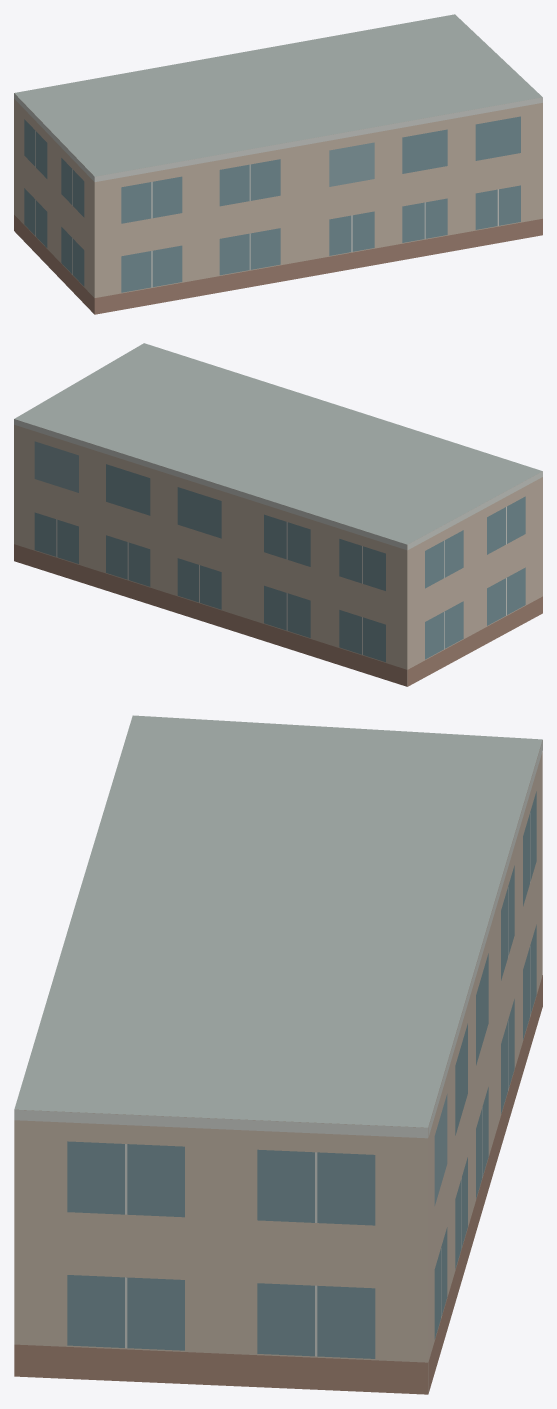
Rendered from survey-upis-32522774.glb.
The picture shows the model from 3 angles, top to bottom: view 1: azimuth 30°, elevation 25°; view 2: azimuth 150°, elevation 25°; view 3: azimuth 270°, elevation 25°; orthographic projection. The views are drawn at different scales.
Parts seen in each view (by area): view 1: survey-upis-32522774.tmp; view 2: survey-upis-32522774.tmp; view 3: survey-upis-32522774.tmp.
Boxes of the visible parts, bbox=[...] form: survey-upis-32522774.tmp: bbox=[14, 14, 542, 314]; survey-upis-32522774.tmp: bbox=[14, 343, 542, 686]; survey-upis-32522774.tmp: bbox=[14, 715, 542, 1394].
Bounding box in the file's own units: 20.22 × 6.1 × 10.96.
